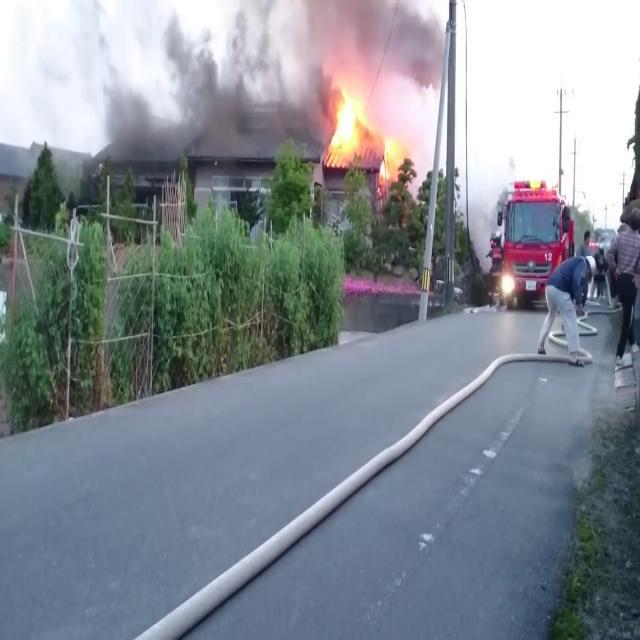Fire: (331, 86, 358, 144), (383, 137, 407, 170)
